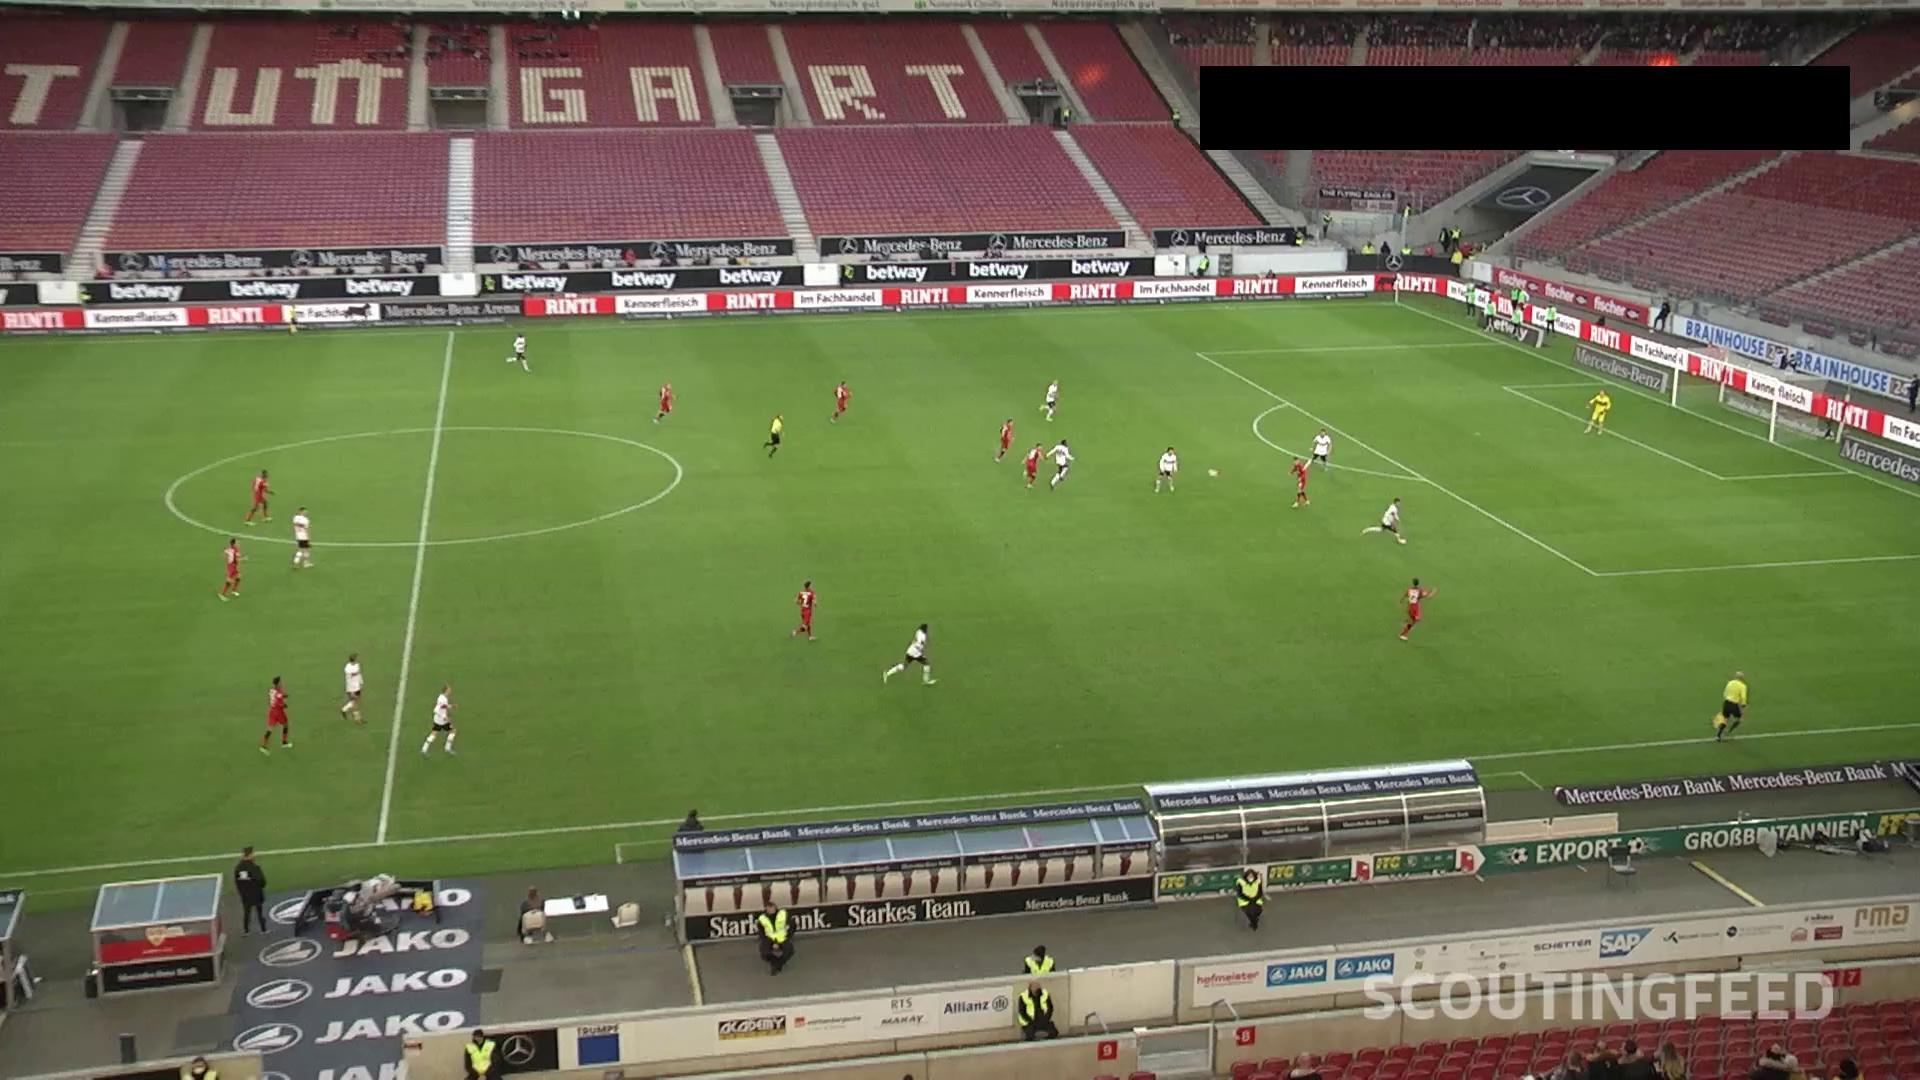Location-of-ball: (1193, 462, 1232, 488)
